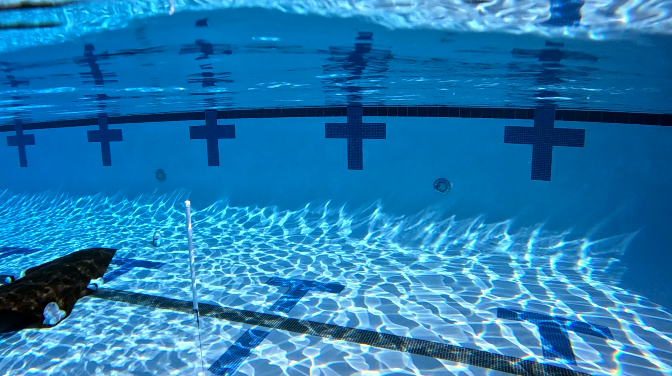sandbag: (0, 240, 116, 334)
